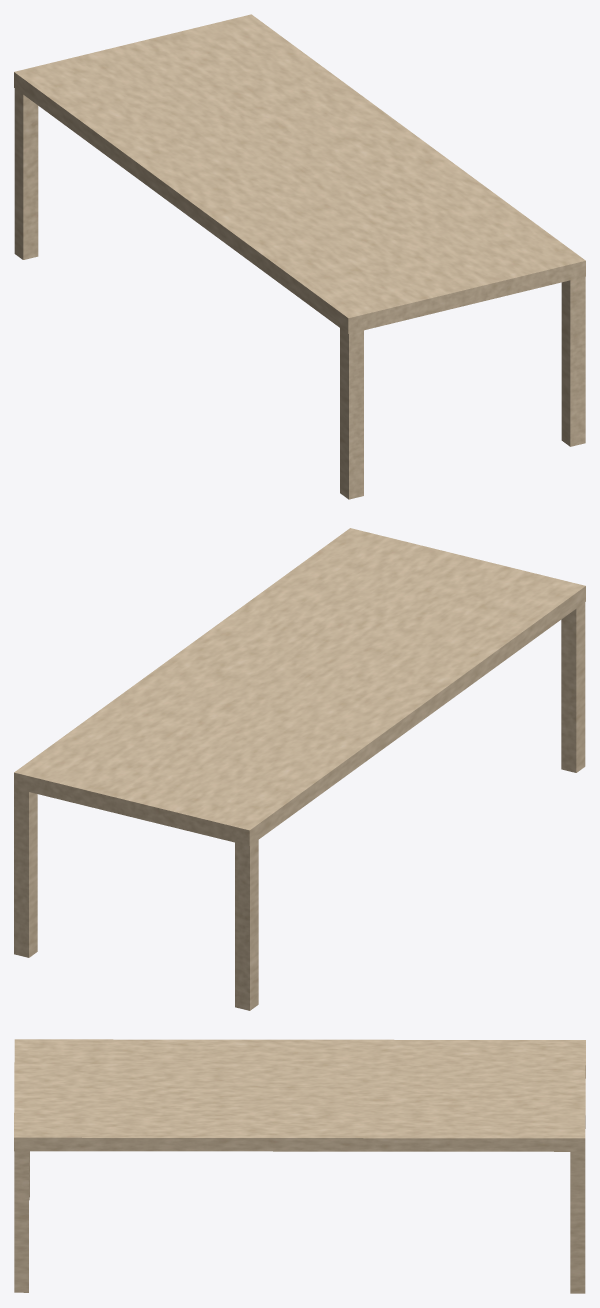
Rendered from simple-table-4k-baked.glb.
3 renders of one model, top to bottom at view 1: azimuth 30°, elevation 25°; view 2: azimuth 150°, elevation 25°; view 3: azimuth 270°, elevation 25°, orthographic. The views are drawn at different scales.
Parts seen in each view (by area): view 1: simple-table-4k-baked-mesh; view 2: simple-table-4k-baked-mesh; view 3: simple-table-4k-baked-mesh.
Part boxes in pixels (box(x1,y1,x2,y2)): simple-table-4k-baked-mesh: box(14, 14, 585, 499); simple-table-4k-baked-mesh: box(14, 528, 585, 1010); simple-table-4k-baked-mesh: box(14, 1039, 585, 1293).
Size of the model in its own units: 1.11 by 0.8093 by 2.7.
1 material, 1 textured.
